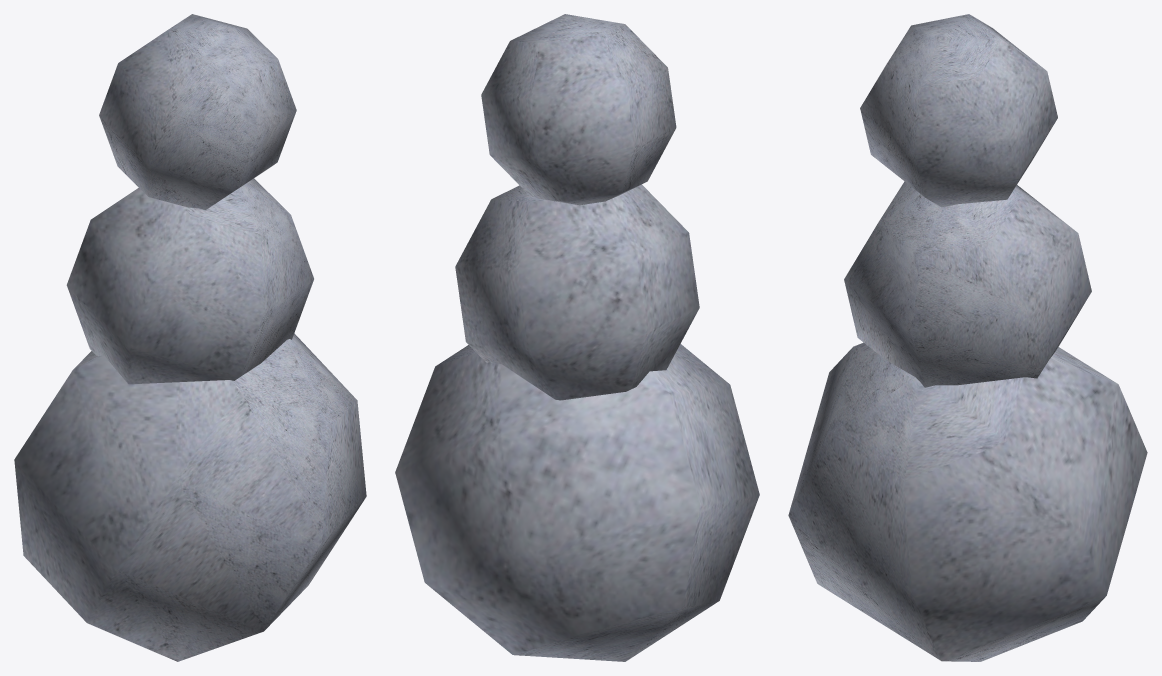
Rendered from snowman.fbx.
3 views of the same model, side by side, from view 1: azimuth 30°, elevation 25°; view 2: azimuth 150°, elevation 25°; view 3: azimuth 270°, elevation 25° (orthographic).
Visible parts, largest first — view 1: snowman; view 2: snowman; view 3: snowman.
Boxes of the visible parts, x1,y1,x2,y2 form: snowman: (14,14,366,661); snowman: (395,14,759,661); snowman: (788,14,1147,661).
Size of the model in its own units: 87.31 by 173 by 90.03.
Materials: 1 (1 with a texture image).
